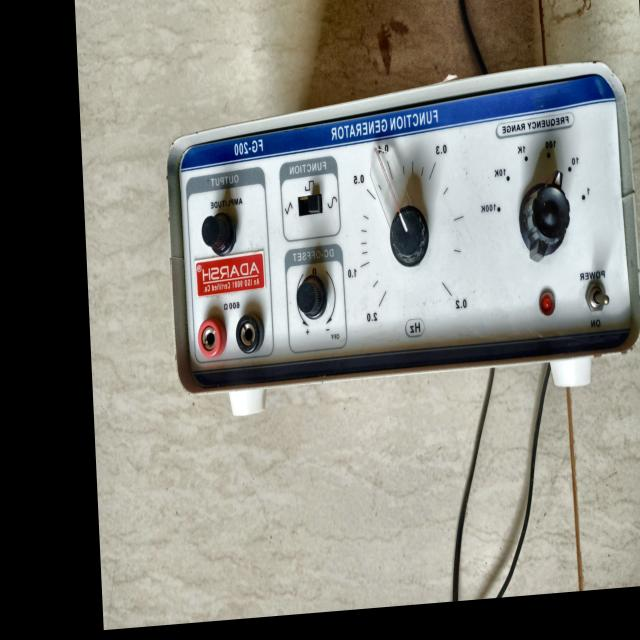Function Generator 100Khz: (152, 45, 640, 422)
